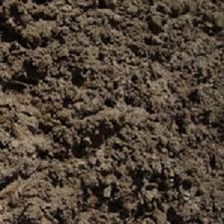loamy_soil: (9, 12, 212, 201)
